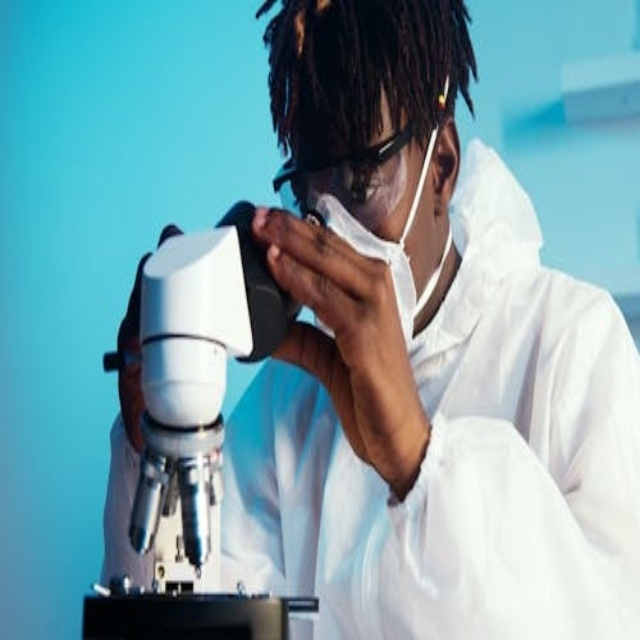Gafas: (278, 115, 427, 214)
Mascara: (285, 191, 448, 353)
Sin_guantes: (251, 204, 424, 478), (113, 222, 190, 454)
